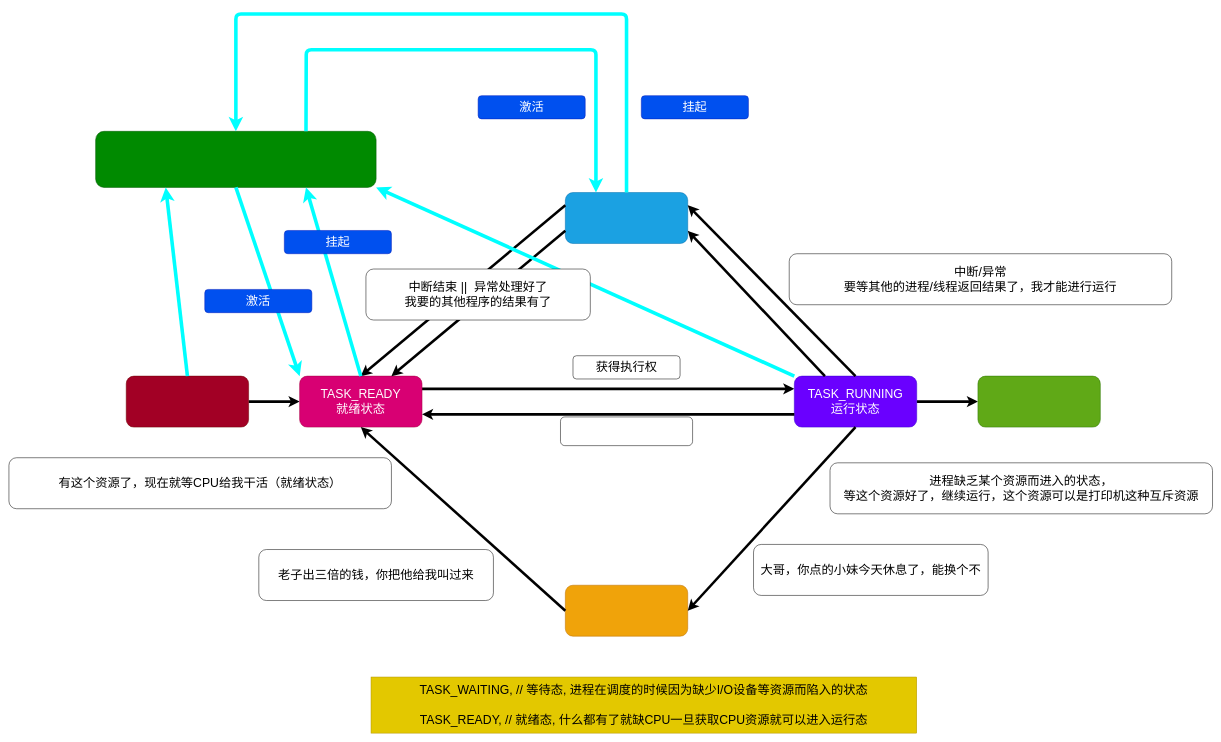
This 1221x742 diagram has some shape labels left out. The shapes that lost their labels are listed below. From the top down, each one's box as (x1, y1, x2, y2) in pixels, then its label:
(95, 131, 376, 187): TASK_HANGING 挂起状态 暂时调到外存等待的进程状态
(565, 192, 688, 244): TASK_BLOCKED 阻塞状态
(126, 376, 249, 427): new 新建一个进程/线程
(977, 376, 1100, 427): TASK_DIED 终结状态
(560, 416, 693, 446): 时间片到期
(565, 585, 688, 636): TASK_WAITING 等待状态
